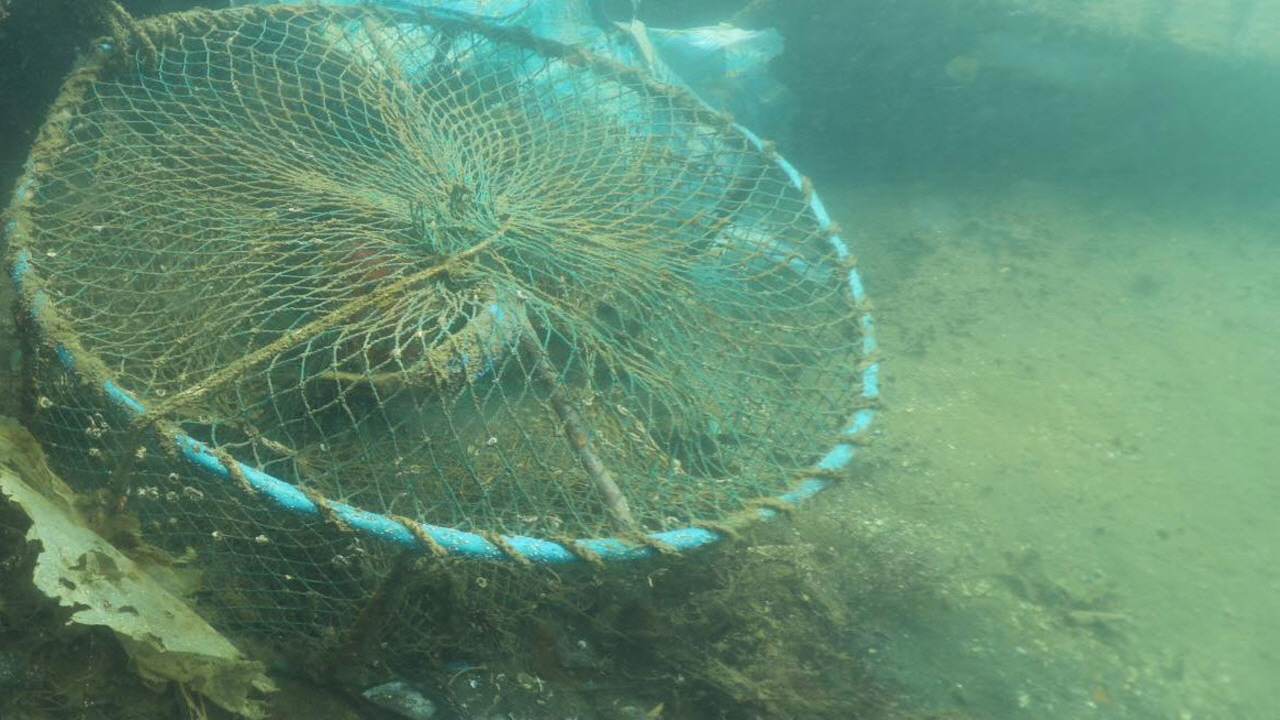circular fish trap: (7, 0, 879, 640)
